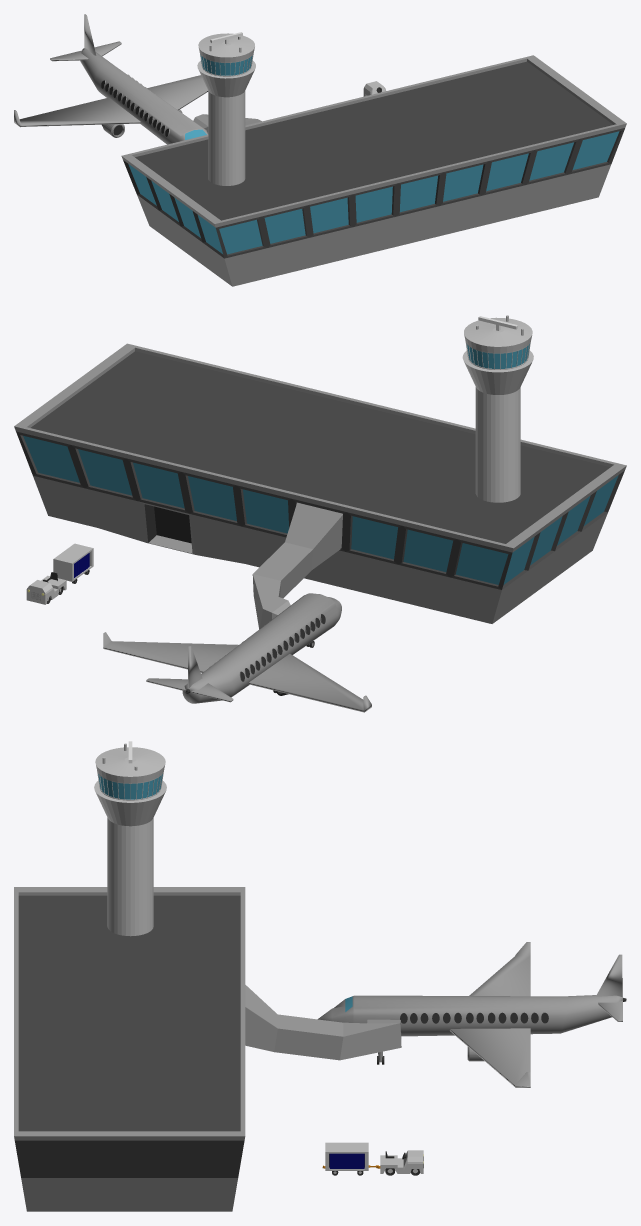
The model's file is scene.ff4dff5e.glb.
3 views of the same model, one above another, from view 1: azimuth 30°, elevation 25°; view 2: azimuth 150°, elevation 25°; view 3: azimuth 270°, elevation 25° (orthographic). The views are drawn at different scales.
Visible parts, largest first — view 1: AirportTerminal, AirportTerminal.002, AirportControlTower; view 2: AirportTerminal, AirportTerminal.002, AirportControlTower, BaggageCart, BaggageTractor; view 3: AirportTerminal, AirportTerminal.002, AirportControlTower, BaggageCart, BaggageTractor.
Part boxes in pixels (x1,y1,x2,y2): AirportTerminal: (121, 55, 626, 286); AirportTerminal.002: (14, 14, 208, 144); AirportControlTower: (197, 33, 255, 185); AirportTerminal: (14, 343, 626, 629); AirportTerminal.002: (103, 593, 371, 712); AirportControlTower: (462, 315, 533, 502); BaggageCart: (53, 543, 93, 583); BaggageTractor: (26, 572, 66, 604); AirportTerminal: (14, 887, 401, 1211); AirportTerminal.002: (318, 942, 626, 1087); AirportControlTower: (94, 743, 166, 936); BaggageCart: (322, 1142, 378, 1175); BaggageTractor: (376, 1150, 423, 1175).
Size of what is drawn, in the model's own units: 5.74 by 2.84 by 5.96.
